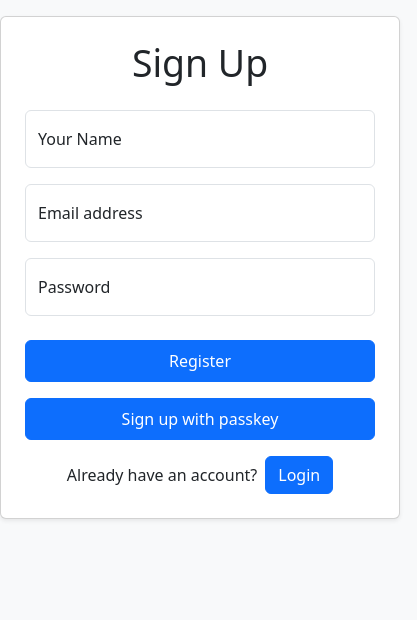
it: SignUpPage › shows an error when passkey registration fails
Type "Alice" into the field labelled "Your Name". click: (200, 139)
box: top-left (25, 110), bottom-right (375, 168)
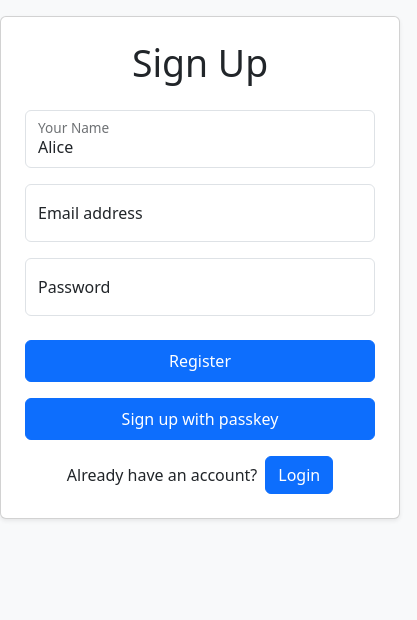
Type "a@b.com" into the field labelled "Email address". click: (200, 213)
box: top-left (25, 184), bottom-right (375, 242)
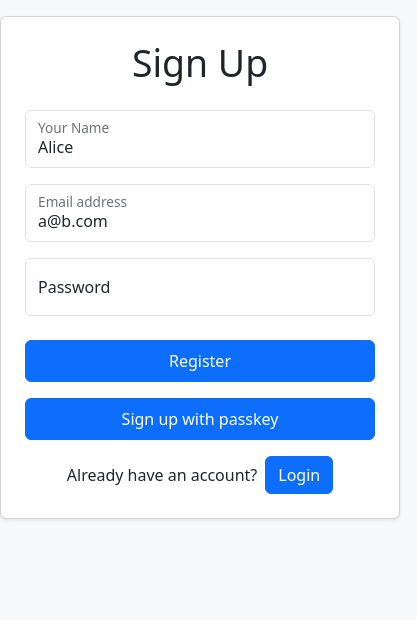
Click the button "Sign up with passkey". click: (200, 419)
box: top-left (25, 398), bottom-right (375, 440)
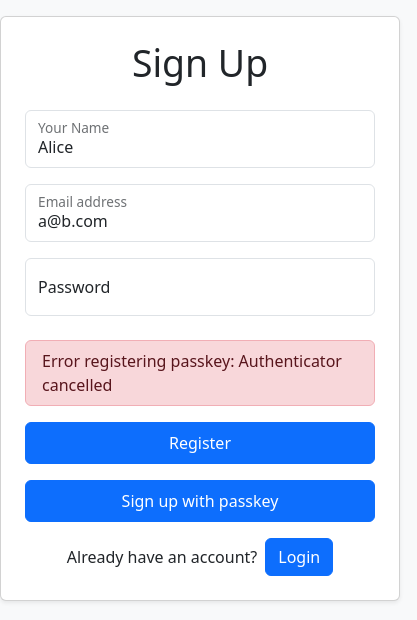
Result: the message shows "Authenticator cancelled" at top-left (42, 350), bottom-right (342, 396)
